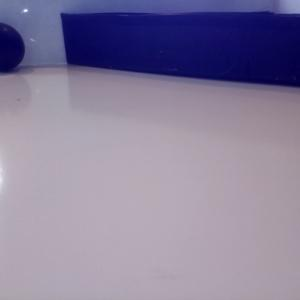zone: (61, 11, 300, 87)
